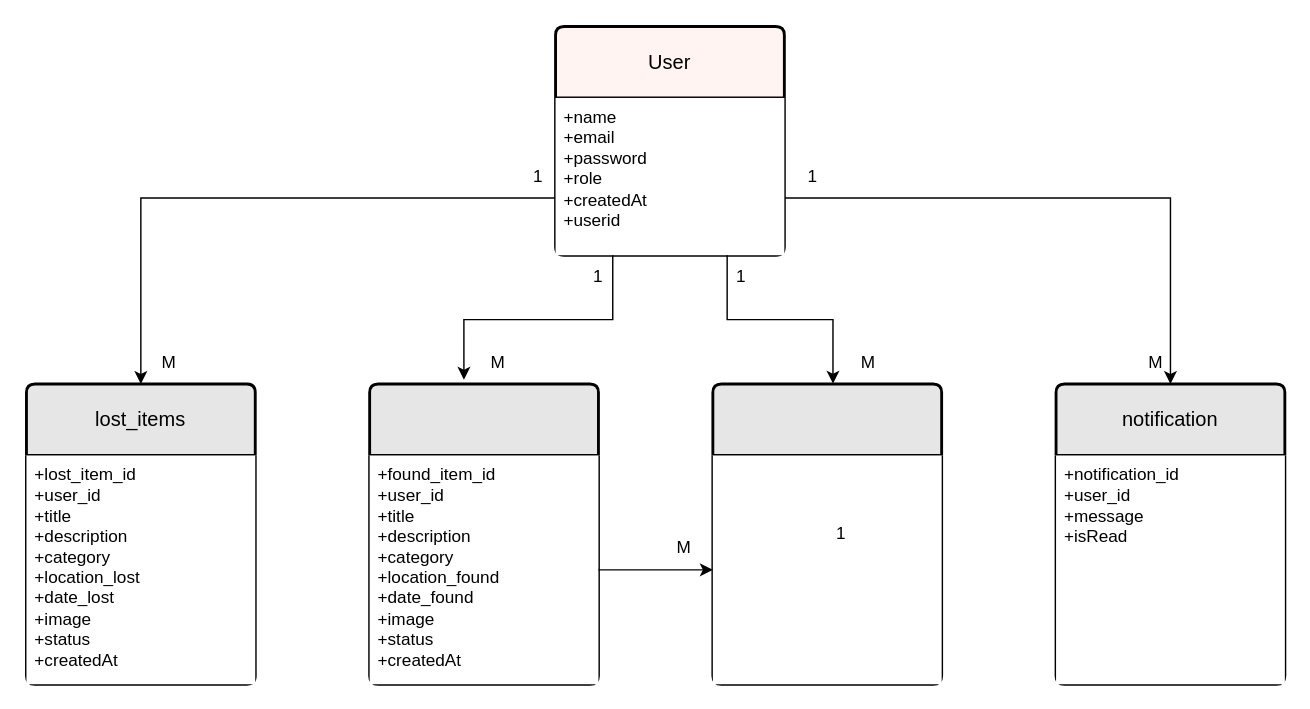
Image size: 1310x709. Some labels were removed from this diagram. Each missing label, with the box of its shape:
+claim_id +found_item_id +compliant_user_id +message +status +createdAt: (712, 455, 941, 684)
claims: (711, 382, 942, 685)
found_items: (368, 382, 599, 685)
